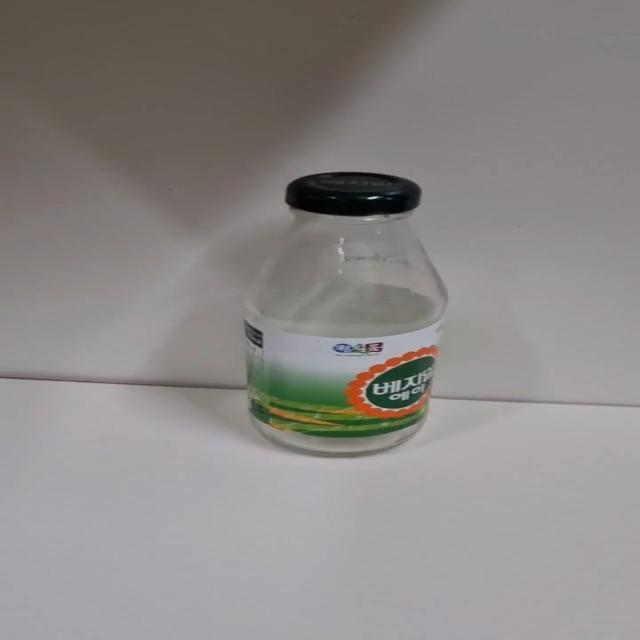Glass: (240, 171, 448, 461)
